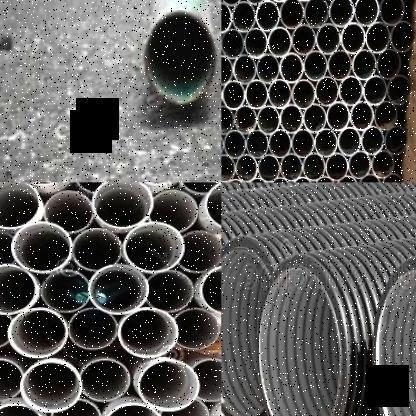pipe: (256, 263, 341, 416), (221, 244, 269, 416), (145, 9, 216, 107), (375, 267, 416, 416), (136, 360, 200, 413), (19, 361, 83, 414), (12, 221, 73, 274), (124, 222, 186, 273), (88, 264, 149, 314), (118, 308, 179, 358), (7, 308, 68, 358), (92, 182, 154, 230), (40, 269, 89, 314), (72, 228, 122, 272), (44, 190, 93, 234), (145, 270, 194, 314), (69, 307, 118, 351), (80, 360, 131, 402), (148, 190, 198, 232), (176, 230, 222, 274), (173, 308, 220, 350), (0, 264, 39, 314), (0, 182, 40, 230), (192, 358, 222, 402), (199, 264, 221, 314), (0, 357, 24, 402), (159, 397, 209, 416), (48, 399, 102, 416), (291, 22, 317, 56), (340, 21, 366, 55), (365, 20, 391, 54), (102, 402, 165, 416), (316, 22, 342, 55), (291, 76, 316, 110), (376, 48, 402, 80), (338, 74, 364, 106), (231, 0, 256, 33), (267, 25, 292, 58), (204, 182, 221, 230), (254, 0, 280, 31), (327, 49, 353, 80), (314, 75, 340, 106), (390, 20, 415, 52), (352, 48, 377, 80), (326, 100, 351, 132), (244, 26, 268, 59), (280, 51, 304, 84), (304, 49, 328, 82), (256, 52, 280, 85), (221, 26, 244, 60), (232, 53, 257, 84), (267, 78, 292, 109), (387, 74, 412, 105), (363, 74, 388, 105), (279, 104, 304, 134), (302, 102, 327, 132), (245, 128, 270, 158), (234, 103, 258, 134), (304, 0, 330, 28), (256, 104, 280, 134), (350, 100, 374, 130), (268, 128, 292, 158), (314, 128, 338, 158), (338, 126, 362, 156), (291, 128, 315, 158), (374, 100, 398, 130), (384, 124, 408, 154), (360, 124, 384, 154), (280, 152, 304, 182), (222, 79, 245, 110), (280, 0, 304, 29), (257, 153, 281, 182), (370, 149, 394, 178), (302, 152, 326, 181), (325, 151, 349, 180), (223, 129, 246, 159), (235, 152, 258, 182), (379, 0, 405, 26), (354, 0, 380, 26), (348, 150, 372, 178), (246, 79, 268, 109), (328, 1, 354, 26), (0, 230, 14, 270), (0, 404, 44, 416), (178, 182, 222, 194), (0, 306, 12, 350), (74, 182, 124, 192), (221, 152, 236, 182), (221, 104, 235, 134), (222, 53, 233, 84), (222, 1, 232, 34), (380, 172, 404, 182), (358, 172, 380, 182), (336, 173, 358, 182), (290, 174, 314, 182), (314, 174, 336, 182), (270, 176, 292, 183), (247, 176, 269, 183)
